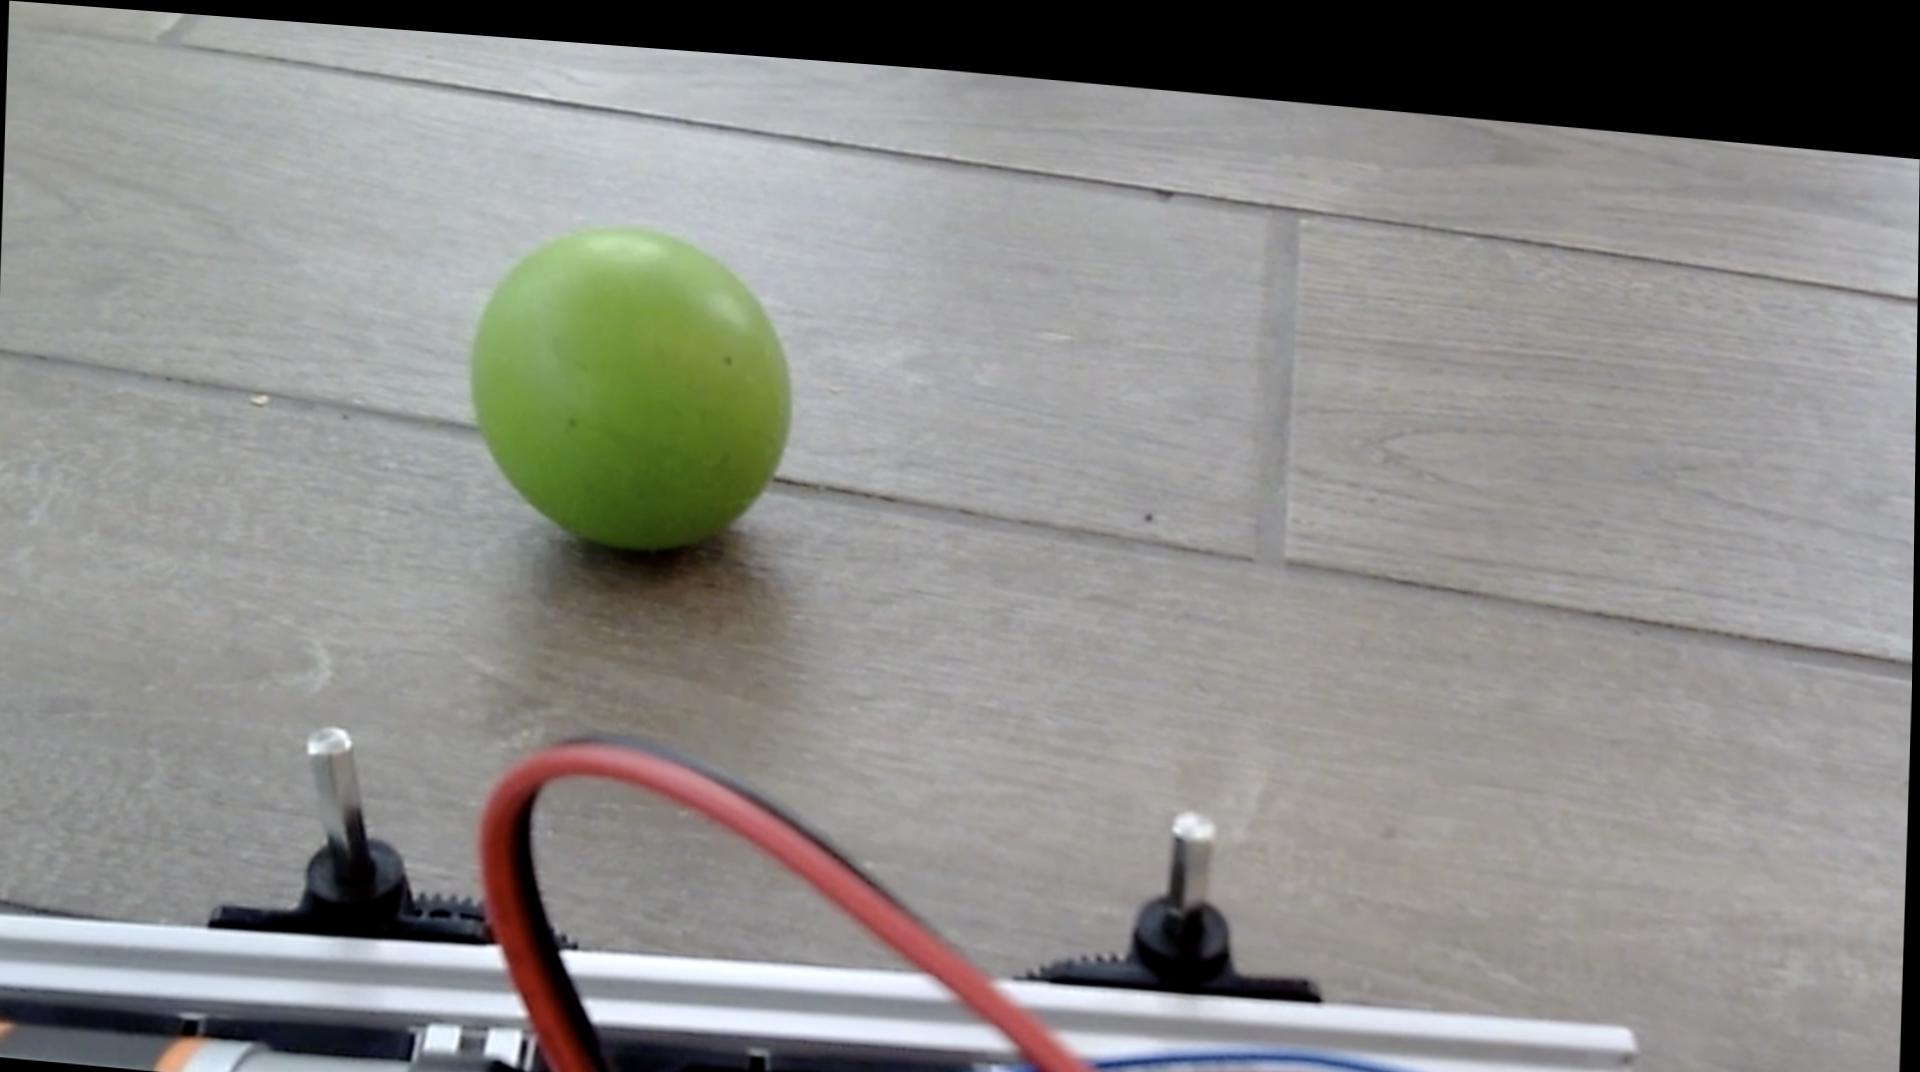greenball: (463, 199, 800, 556)
